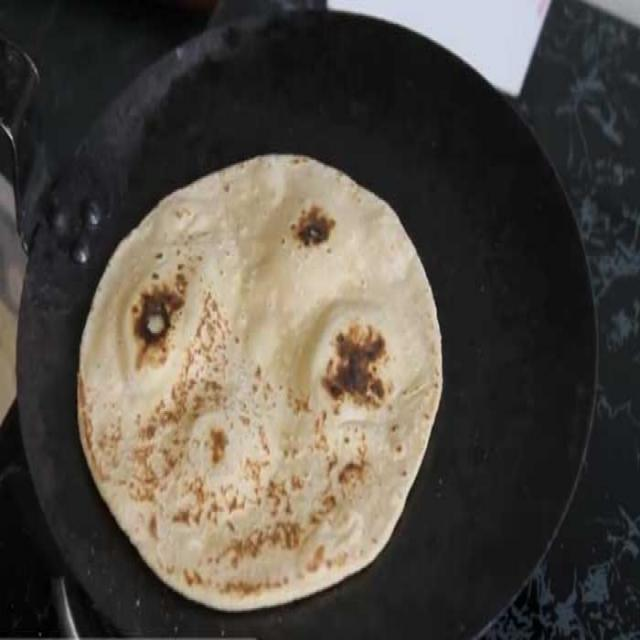roti: (74, 164, 437, 611)
